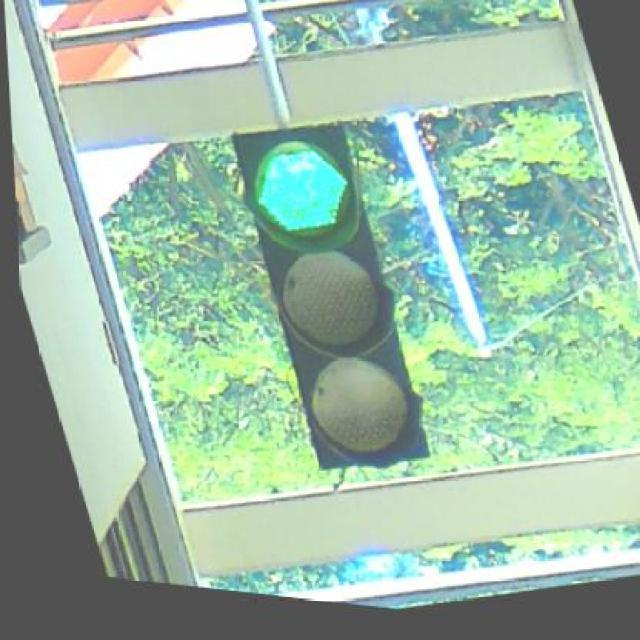green_light: (230, 123, 427, 466)
